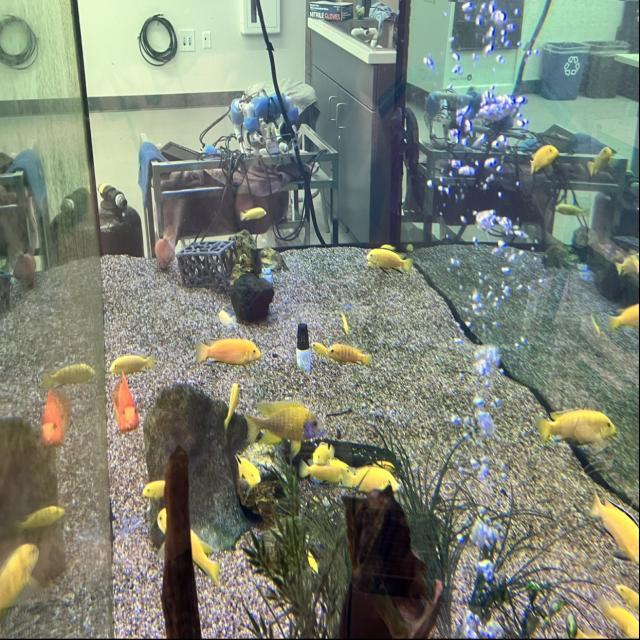YellowCichlid: (156, 511, 236, 578), (530, 398, 626, 448), (588, 488, 640, 562), (254, 398, 334, 440), (191, 334, 273, 372), (362, 235, 415, 283), (101, 352, 161, 380), (356, 468, 408, 500), (228, 456, 270, 494), (326, 343, 384, 366), (601, 610, 640, 636), (530, 140, 556, 176), (614, 300, 638, 339), (223, 382, 244, 426), (616, 578, 640, 614), (301, 462, 344, 482), (590, 140, 616, 173), (234, 202, 272, 222), (617, 247, 640, 279), (308, 337, 328, 365), (566, 624, 598, 640), (308, 442, 338, 459), (336, 312, 356, 336), (138, 479, 176, 491), (306, 550, 322, 572)
